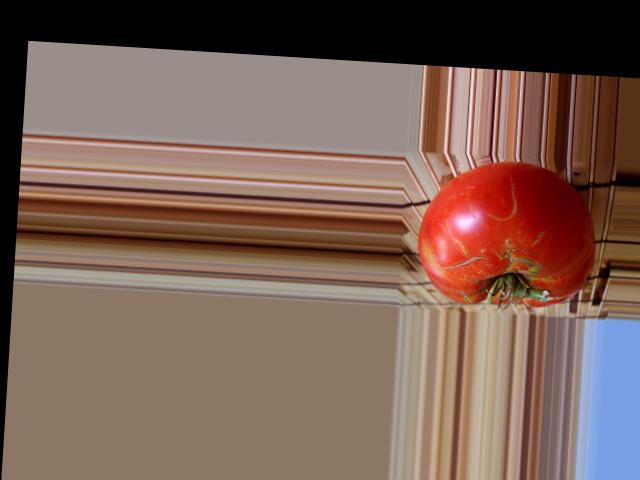tomato: (415, 158, 600, 311)
